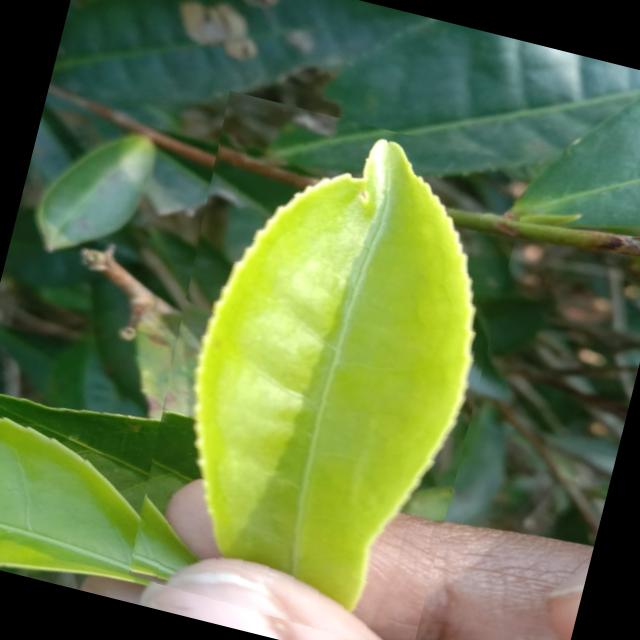Category B(2-4 days): (106, 90, 532, 640)
